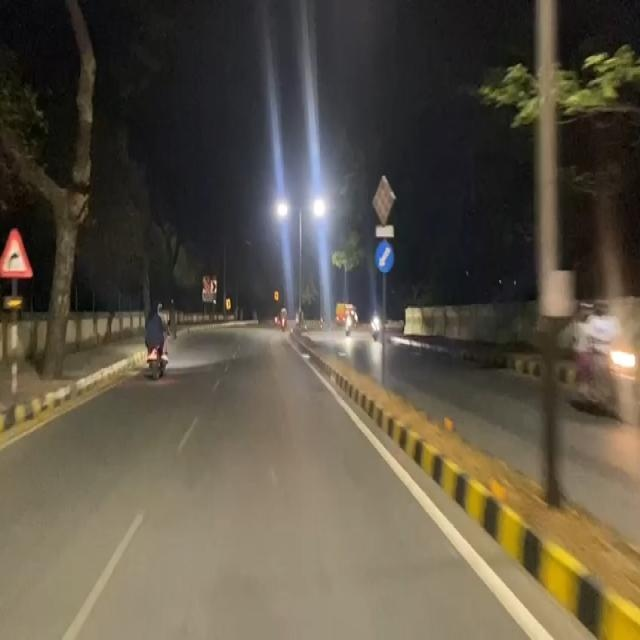bien_hieu_lenh: (0, 218, 36, 287), (370, 236, 397, 275)
